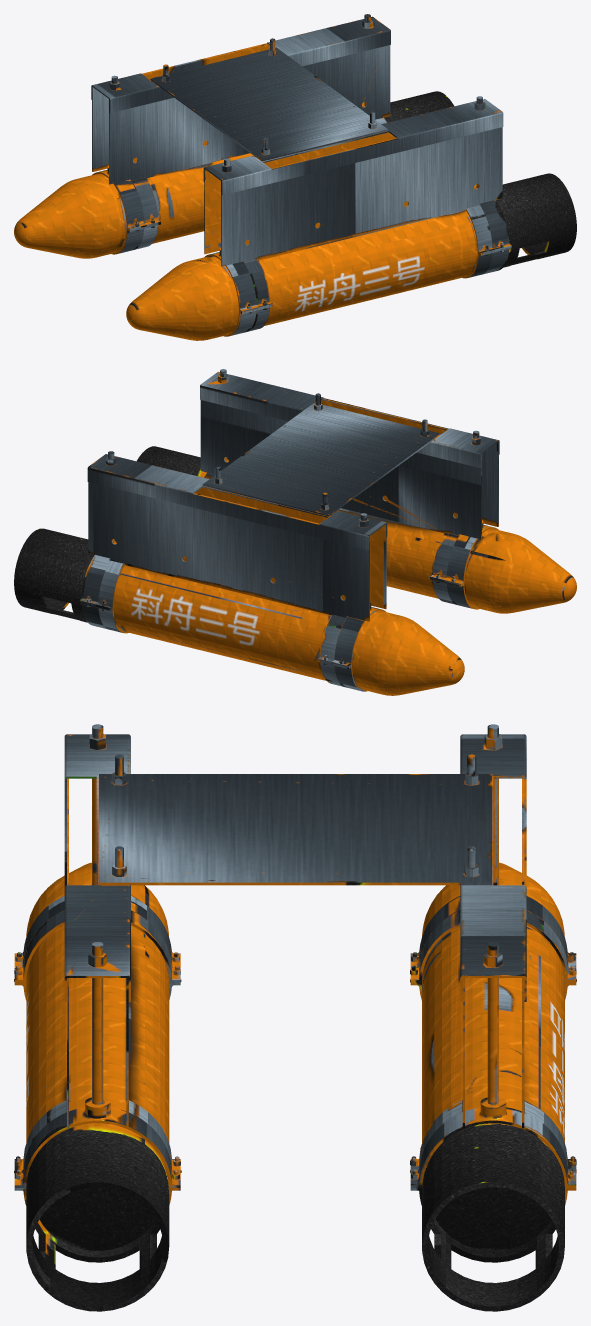
The model's file is keship3.dae.
3 views of the same model, one above another, from view 1: azimuth 30°, elevation 25°; view 2: azimuth 150°, elevation 25°; view 3: azimuth 270°, elevation 25° (orthographic). The views are drawn at different scales.
Visible parts, largest first — view 1: 装配体1(1); view 2: 装配体1(1); view 3: 装配体1(1).
Part boxes in pixels (left/top/right/bottom): 装配体1(1): left=14, top=14, right=576, bottom=340; 装配体1(1): left=14, top=369, right=576, bottom=695; 装配体1(1): left=14, top=724, right=576, bottom=1311.
Bounding box in the file's own units: 3.05 × 1.97 × 1.21.
1 material, 1 textured.
